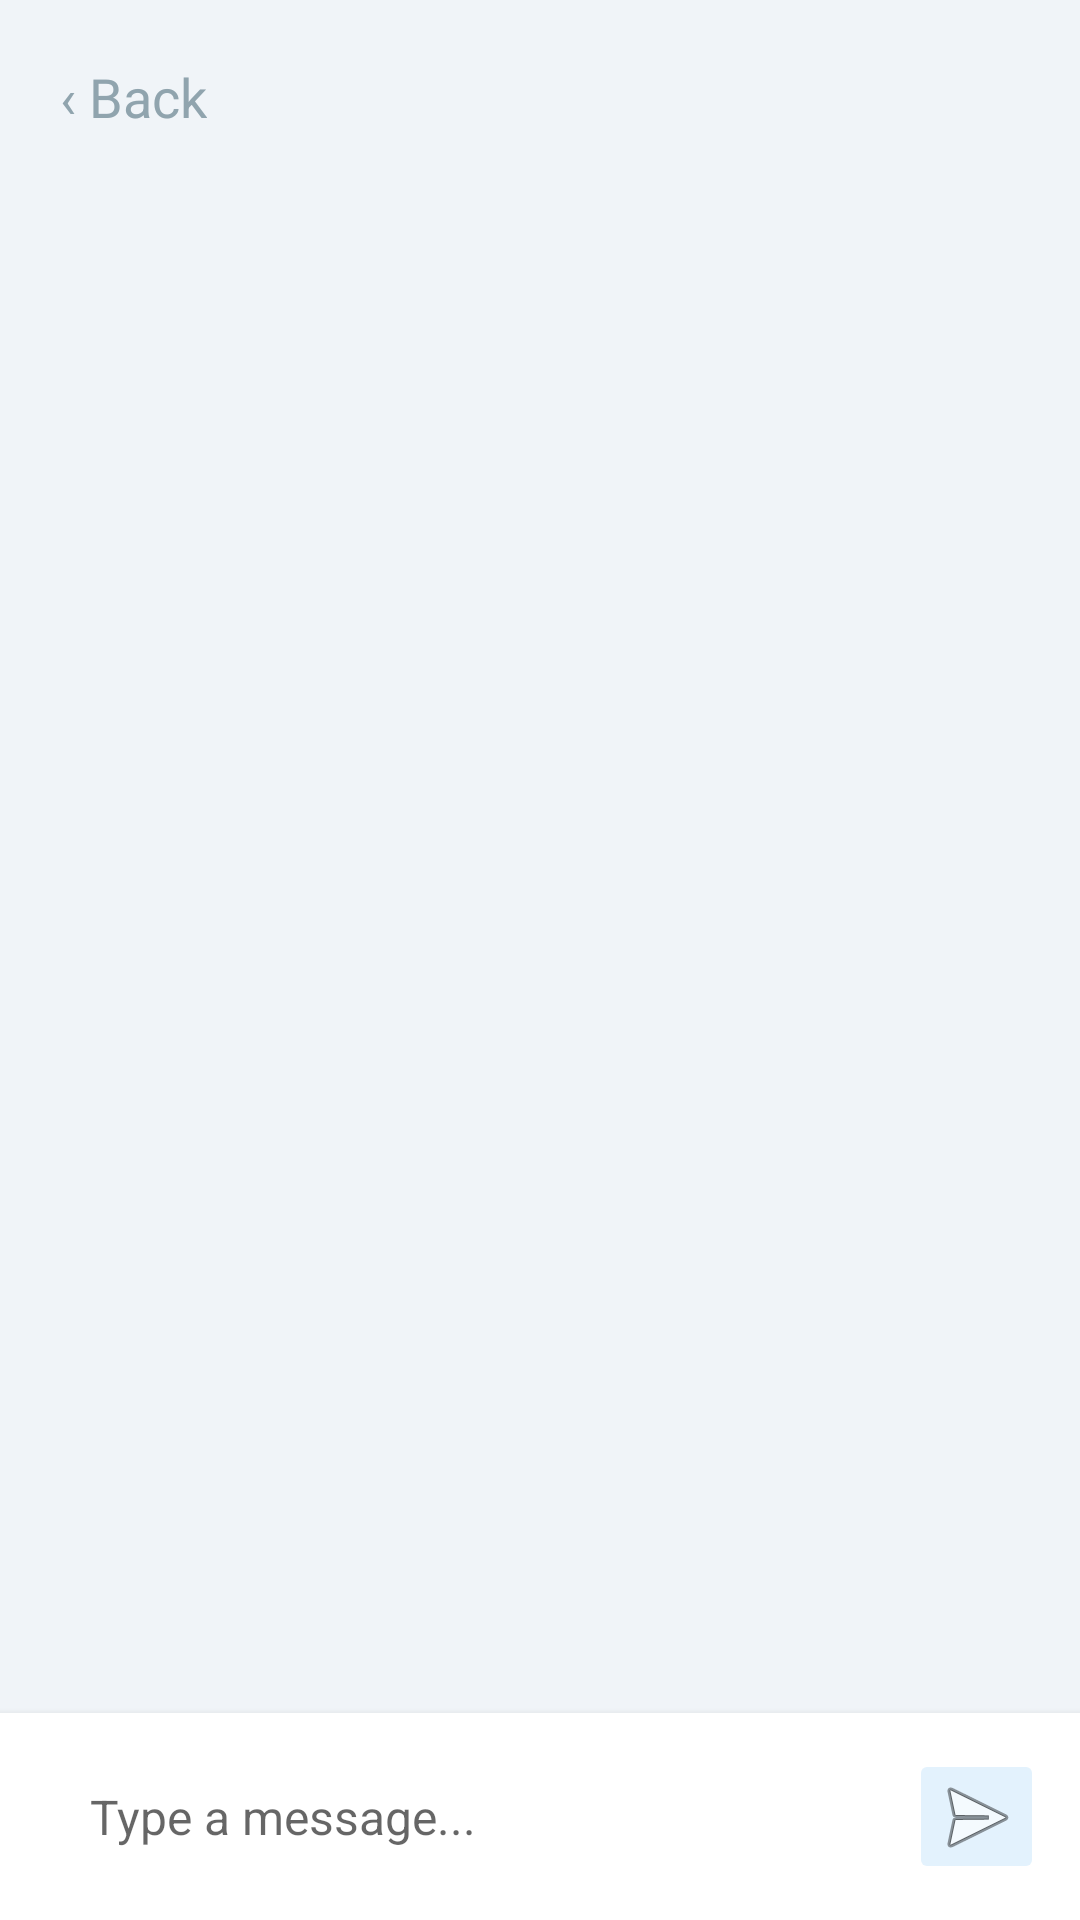

Icons on this 1080px×1920px Android screen, each with the point to tap as (x,y):
Send: (976,1816)
